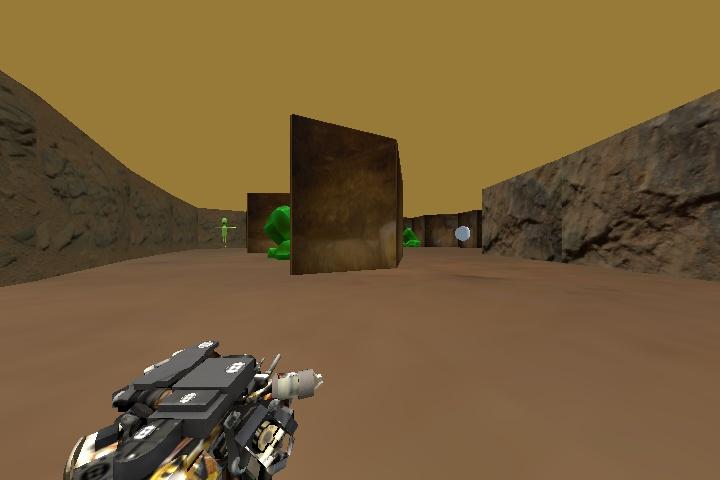alien: (212, 215, 235, 245)
gem: (263, 204, 290, 259), (400, 226, 420, 248)
sphere: (455, 225, 470, 241)
